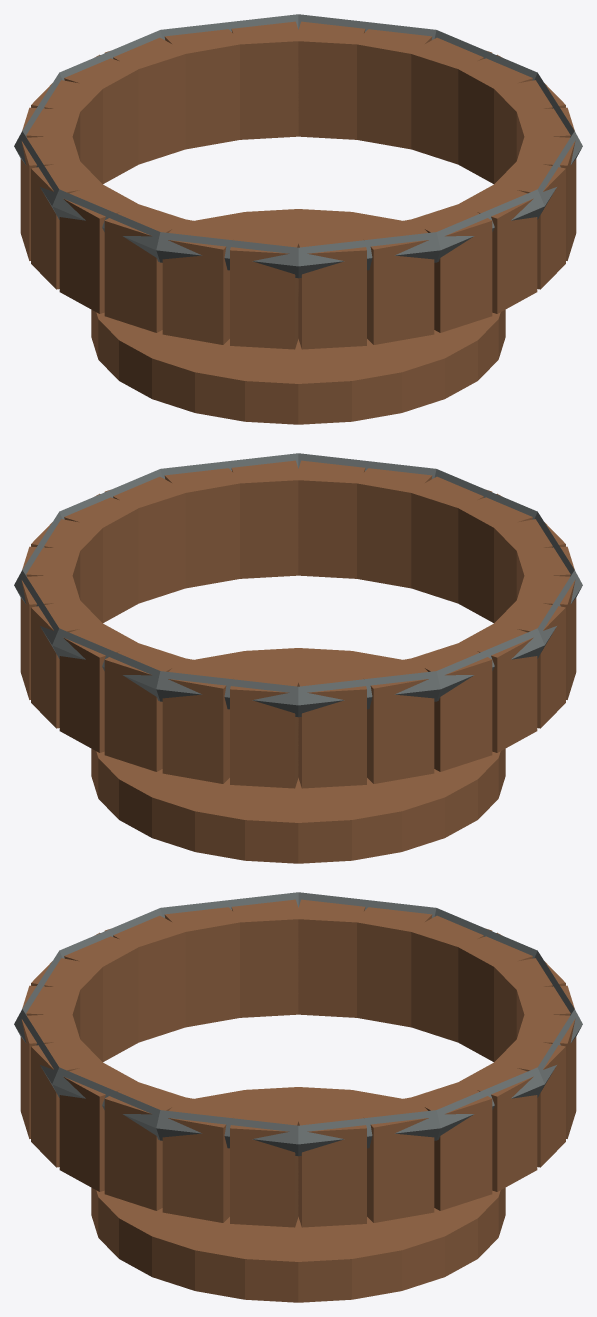
File: reliquia_bateia.glb
3 views of the same model, one above another, from view 1: azimuth 30°, elevation 25°; view 2: azimuth 150°, elevation 25°; view 3: azimuth 270°, elevation 25° (orthographic).
Visible parts, largest first — view 1: reliquia_bateia; view 2: reliquia_bateia; view 3: reliquia_bateia.
Part boxes in pixels (x1,y1,x2,y2): reliquia_bateia: (14, 14, 582, 424); reliquia_bateia: (14, 453, 582, 863); reliquia_bateia: (14, 892, 582, 1302).
Bounding box in the file's own units: 2 × 0.8 × 2.
